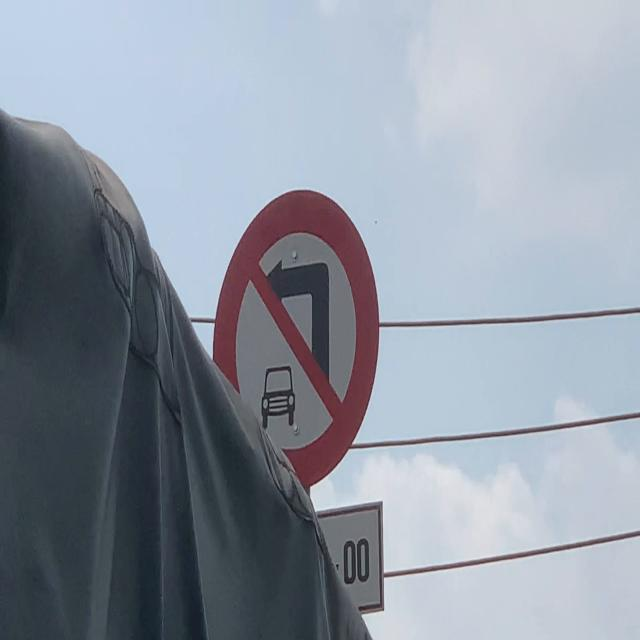Cam re trai: (201, 190, 380, 486)
